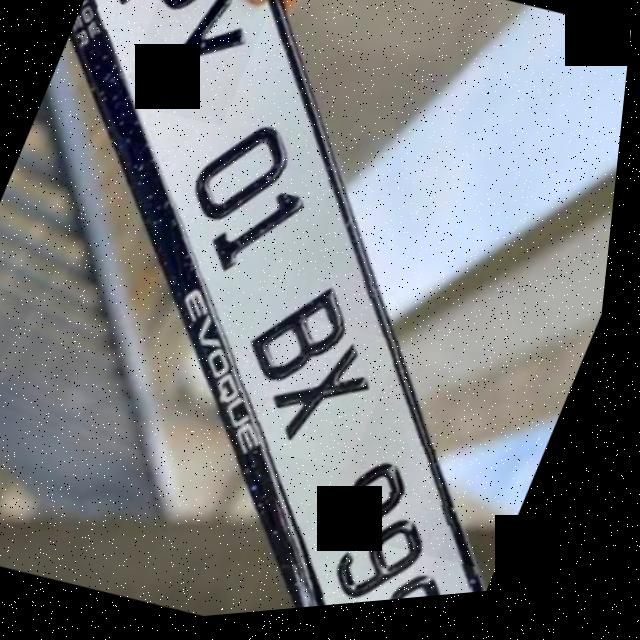0: (191, 117, 299, 246)
1: (218, 181, 322, 287)
9: (323, 449, 425, 566), (352, 509, 449, 611), (379, 567, 469, 610)
B: (257, 283, 364, 402)
P: (115, 0, 216, 36)
X: (280, 342, 387, 461)
Y: (144, 0, 257, 112)
